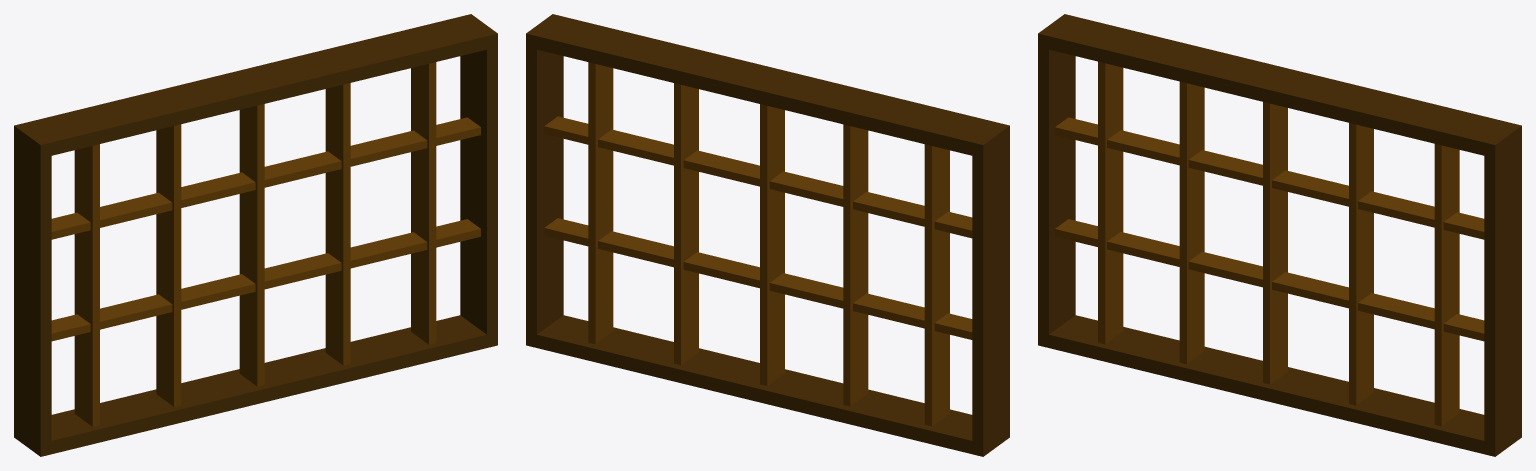
The model's file is Windows.obj.
The picture shows the model from 3 angles, left to right: view 1: azimuth 30°, elevation 25°; view 2: azimuth 150°, elevation 25°; view 3: azimuth 330°, elevation 25°; orthographic projection.
Visible parts, largest first — view 1: Window Window; view 2: Window Window; view 3: Window Window.
Boxes of the visible parts, box(x1,y1,x2,y2) form: Window Window: box(14, 14, 497, 456); Window Window: box(526, 14, 1009, 456); Window Window: box(1038, 14, 1521, 456).
Bounding box in the file's own units: 235 × 153 × 23.78.
